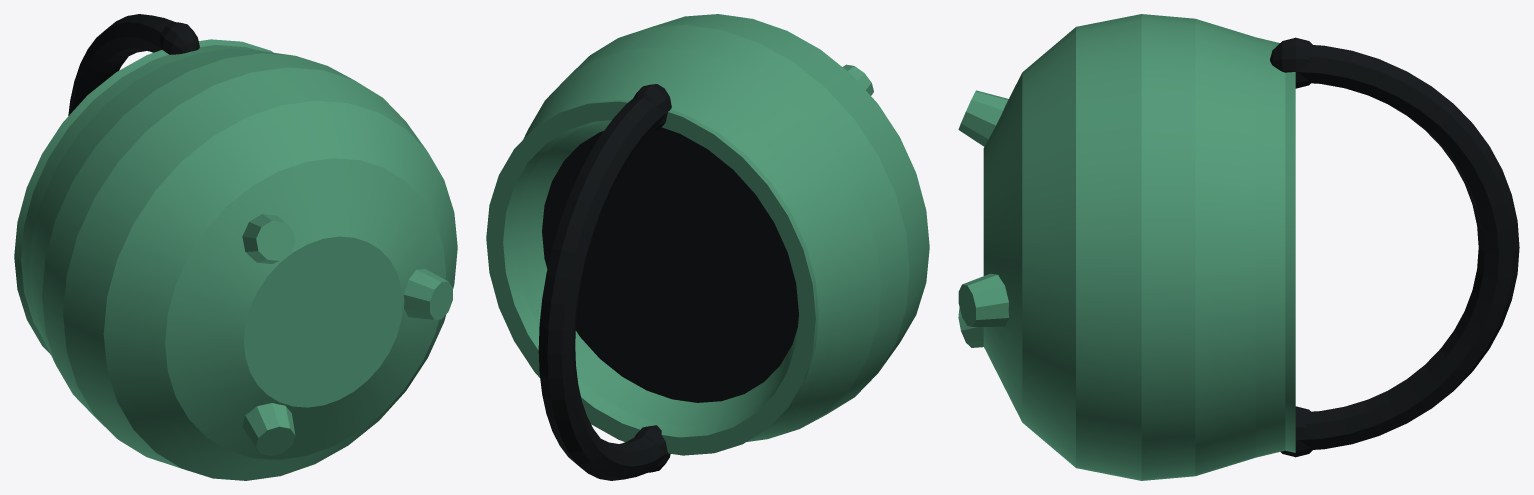
File: EVHalloween_WitchCauldron_Variant3_Held.fbx
3 views of the same model, side by side, from view 1: azimuth 30°, elevation 25°; view 2: azimuth 150°, elevation 25°; view 3: azimuth 270°, elevation 25° (orthographic). The views are drawn at different scales.
Parts seen in each view (by area): view 1: EVHalloween_Decor_PumpkinOrange; view 2: EVHalloween_Decor_PumpkinOrange; view 3: EVHalloween_Decor_PumpkinOrange.
Boxes of the visible parts, left/top/right/bottom form: EVHalloween_Decor_PumpkinOrange: left=14, top=14, right=457, bottom=480; EVHalloween_Decor_PumpkinOrange: left=486, top=14, right=929, bottom=480; EVHalloween_Decor_PumpkinOrange: left=958, top=14, right=1519, bottom=480.
Size of the model in its own units: 40 by 40 by 48.02.
